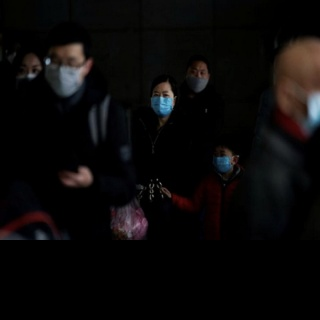with_mask: (45, 53, 85, 97), (150, 88, 174, 116), (186, 66, 209, 93), (214, 149, 232, 172)
